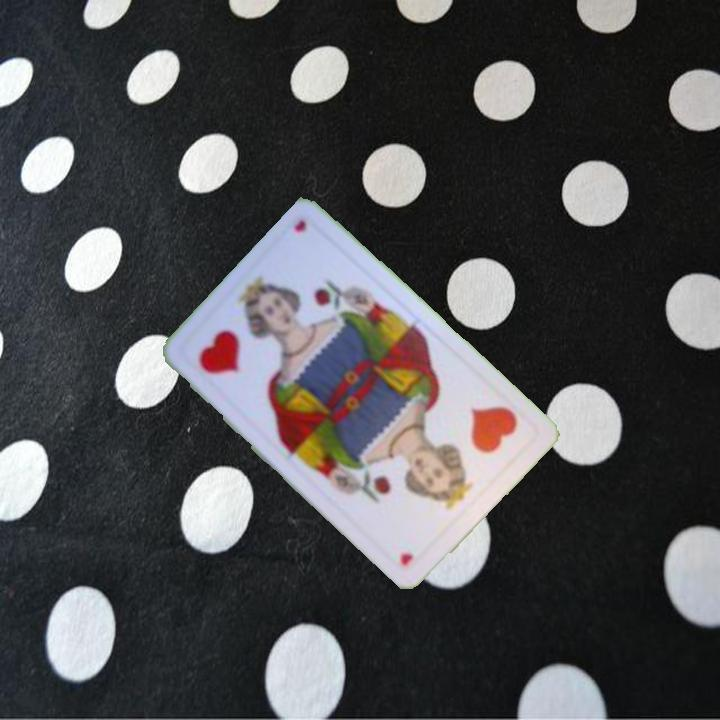h_q.png: (412, 376, 541, 505), (176, 283, 304, 412)
